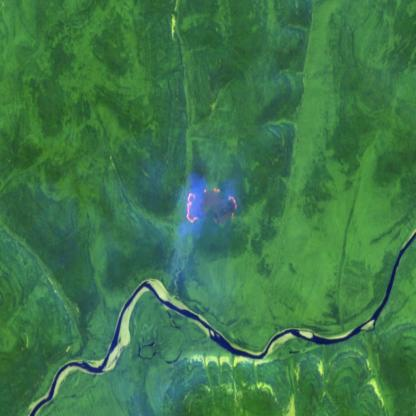fire: (182, 181, 240, 231)
